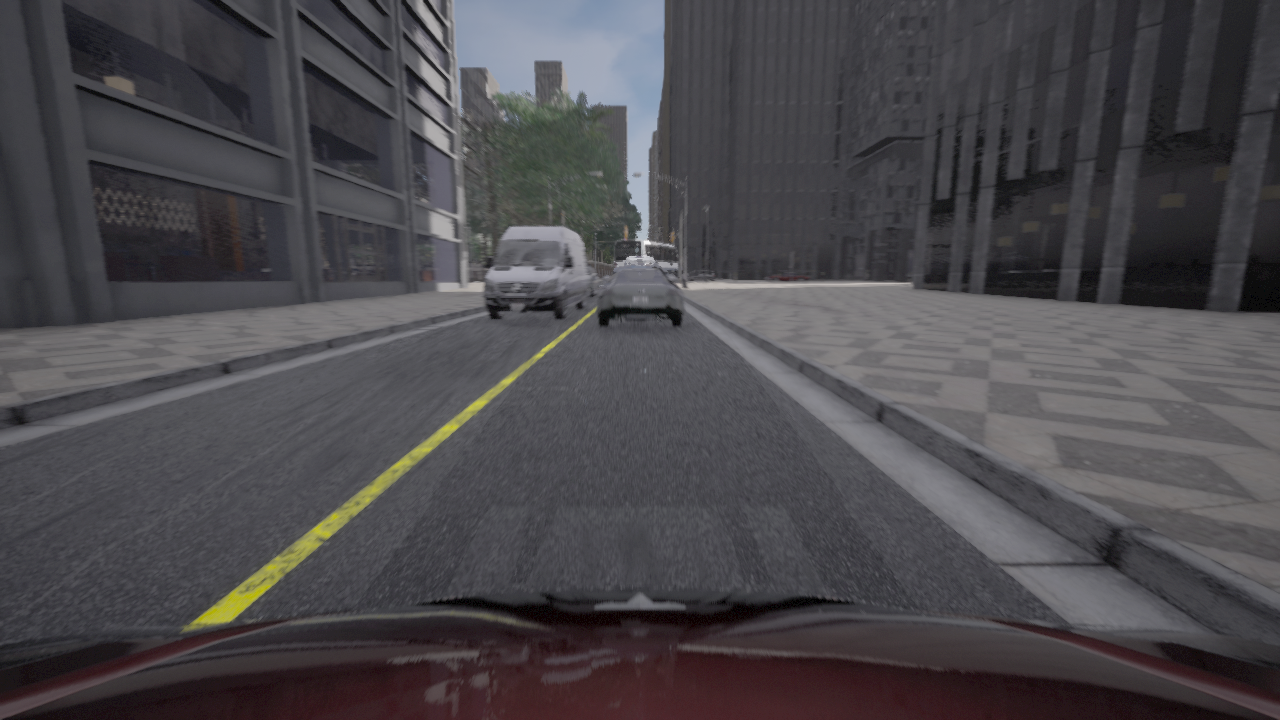cyclist: (0, 588, 1279, 719), (483, 226, 587, 319), (597, 266, 683, 327), (613, 239, 679, 282), (676, 270, 715, 282), (586, 266, 599, 298), (765, 272, 809, 281), (625, 257, 654, 266)
